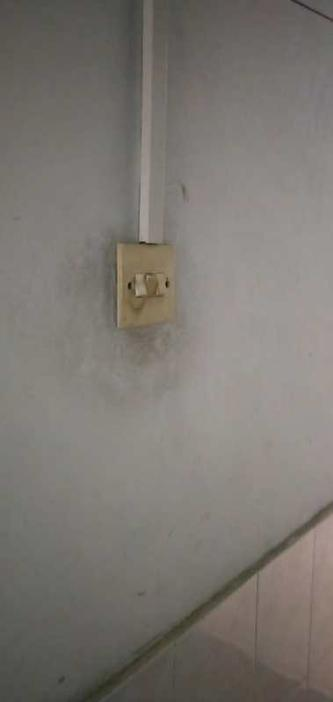switch: (133, 276, 147, 297), (154, 271, 162, 301), (170, 272, 174, 302)
